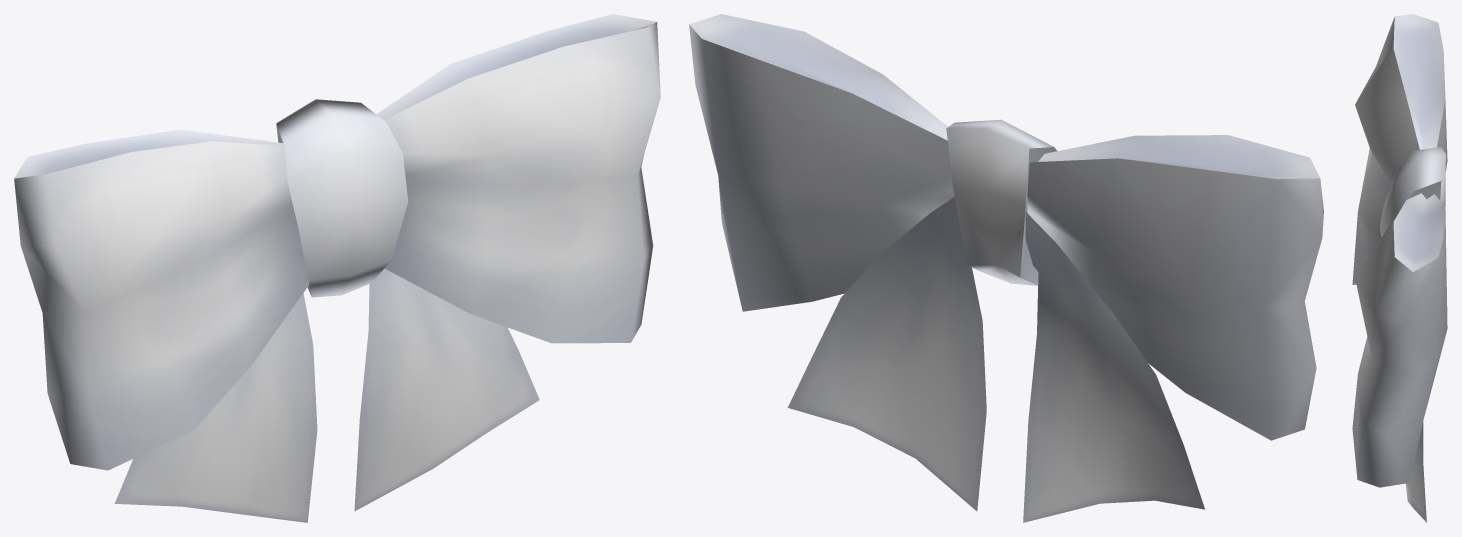
The model's file is Bow.fbx.
The picture shows the model from 3 angles, left to right: view 1: azimuth 30°, elevation 25°; view 2: azimuth 150°, elevation 25°; view 3: azimuth 270°, elevation 25°; orthographic projection. The views are drawn at different scales.
Visible parts, largest first — view 1: Bow; view 2: Bow; view 3: Bow.
Boxes of the visible parts, <box> form: Bow: <box>14,14,660,522</box>; Bow: <box>689,14,1323,522</box>; Bow: <box>1352,14,1447,522</box>.
Bounding box in the file's own units: 13.07 × 8.35 × 2.03.
Materials: 1 (1 with a texture image).
